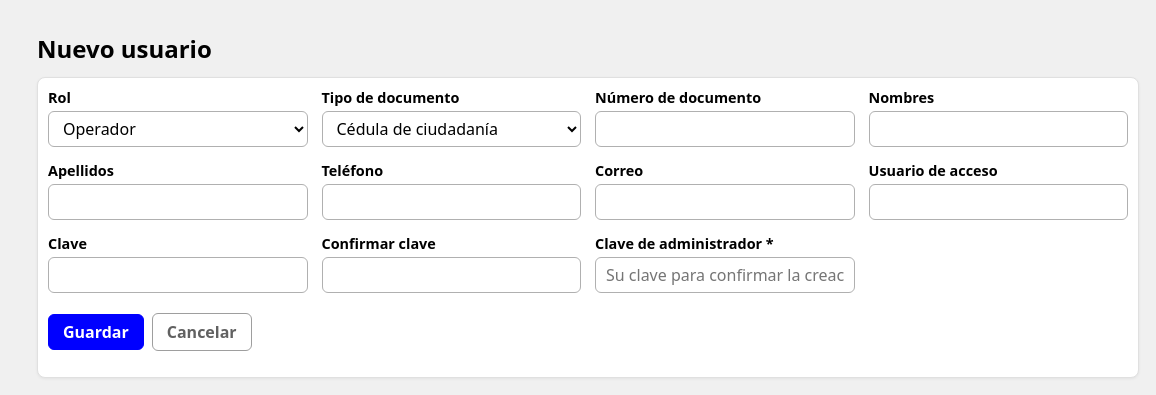
Test: UserFormPage › debería enviar el formulario de creación de usuario exitosamente
Type "12345678" into the field labelled "Número de documento".
click(725, 129); type("12345678")  # box left=595, top=111, right=854, bottom=147
Type "Carlos" into the field labelled "Nombres".
click(998, 129); type("Carlos")  # box left=868, top=111, right=1128, bottom=147
Type "Gomez" into the field labelled "Apellidos".
click(178, 202); type("Gomez")  # box left=48, top=184, right=308, bottom=220
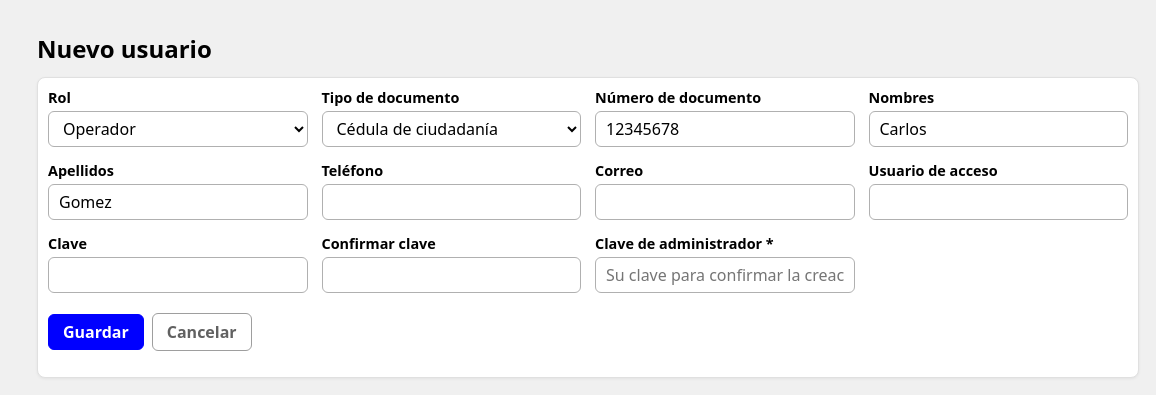
Type "cgomez" into the field labelled "Usuario de acceso".
click(998, 202); type("cgomez")  # box left=868, top=184, right=1128, bottom=220
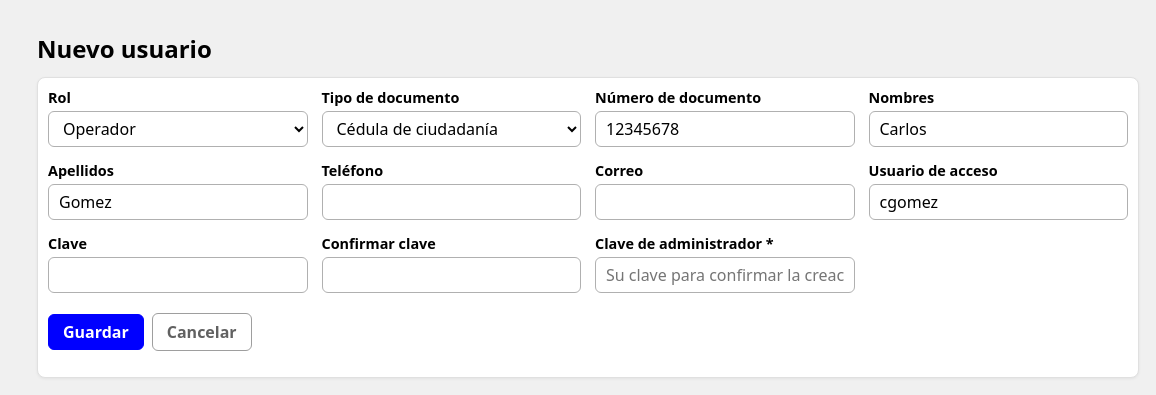
Type "12345" into the password field labelled "Clave".
click(178, 275); type("12345")  # box left=48, top=257, right=308, bottom=293
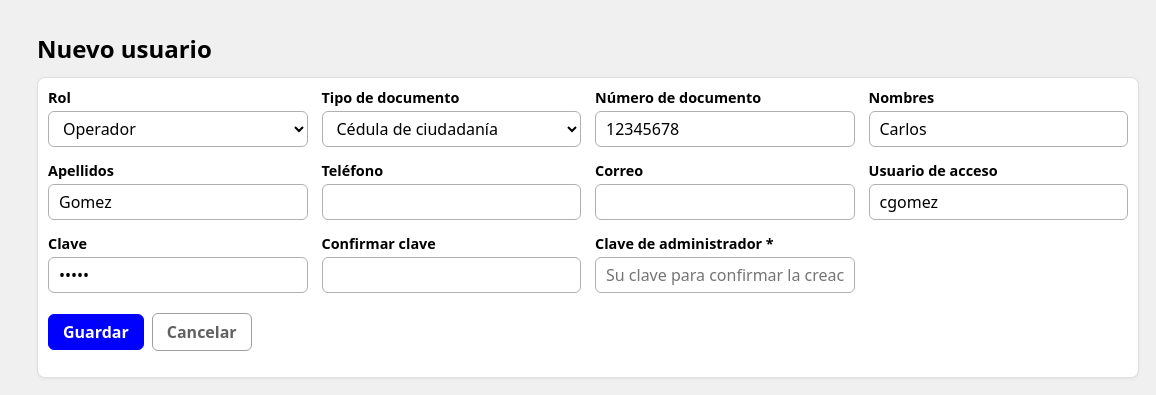
Type "12345" into the password field labelled "Confirmar clave".
click(451, 275); type("12345")  # box left=322, top=257, right=581, bottom=293
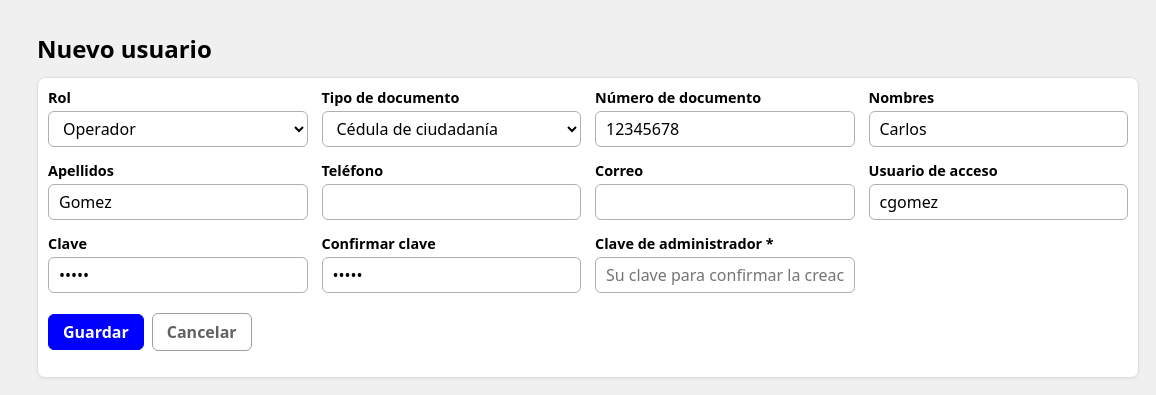
Type "adminkey" into the password field labelled "Clave de administrador *".
click(725, 275); type("adminkey")  # box left=595, top=257, right=854, bottom=293
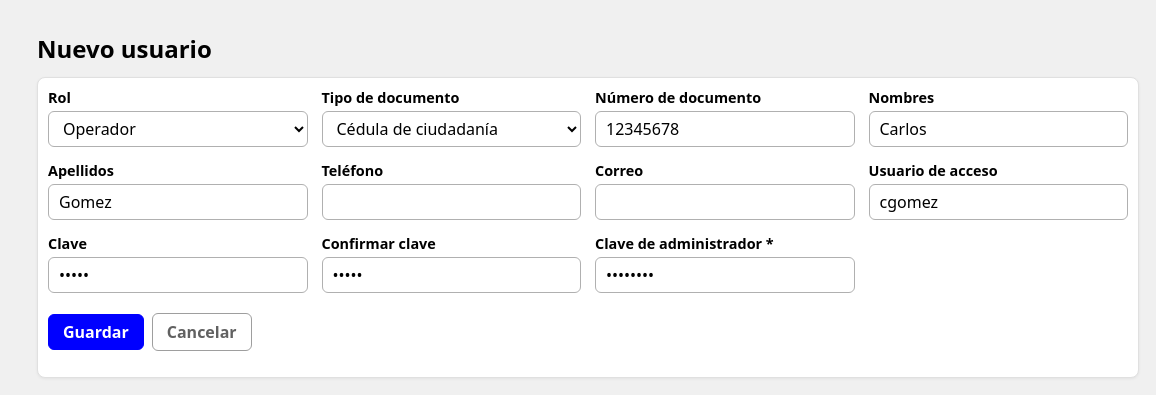
Click the button "Guardar".
click(96, 332)  # box left=48, top=314, right=144, bottom=350
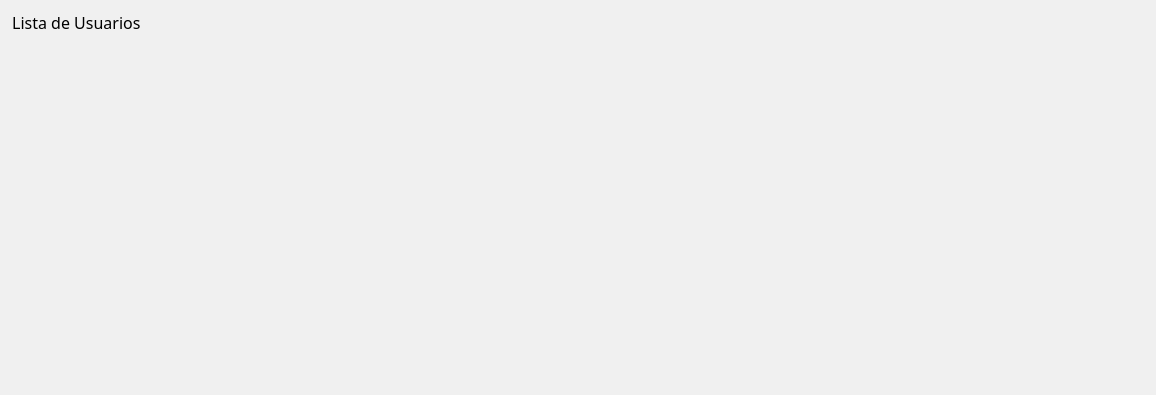
Expected: the text "Lista de Usuarios" is shown, left=12, top=12, right=140, bottom=34
